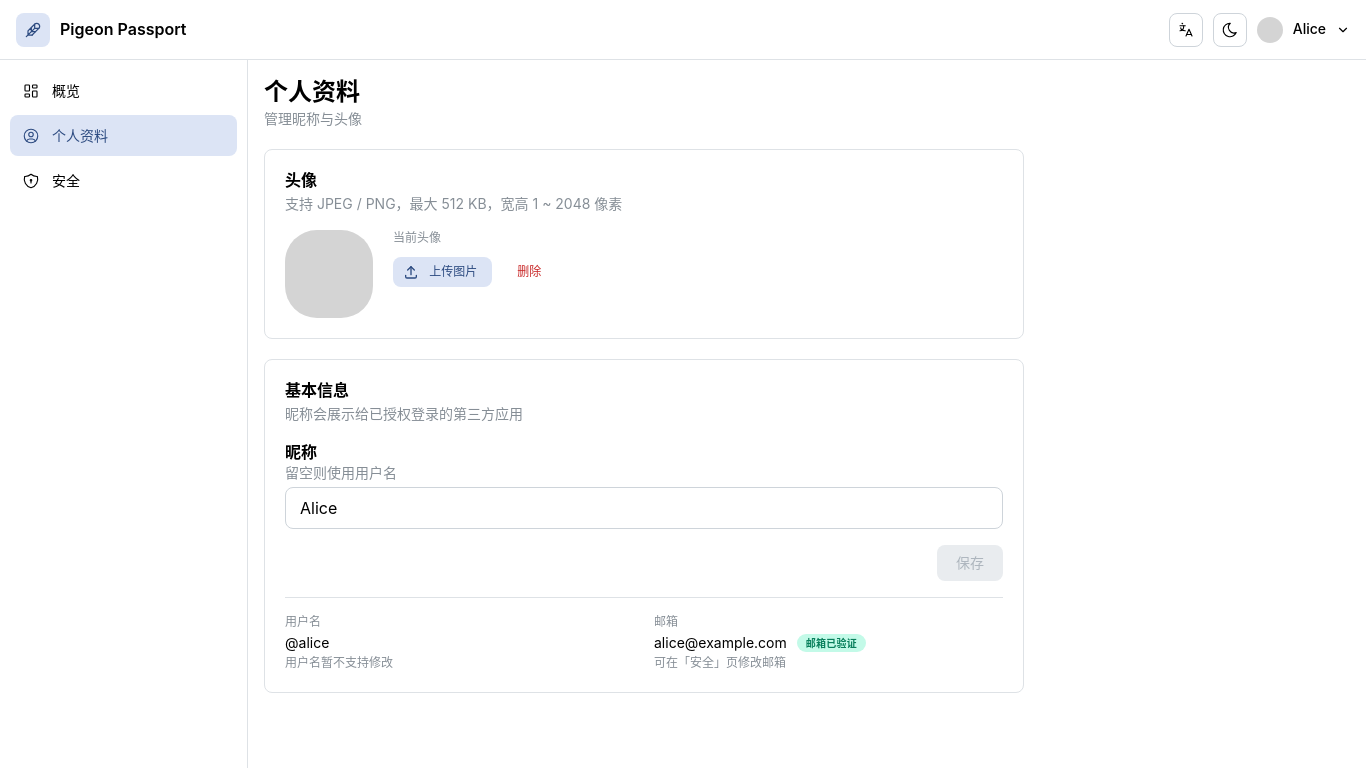
Test: ProfilePage avatar › deletes the current avatar after confirmation
This screenshot has width=1366, height=768.
Check: the field labelled "昵称" is shown, box [285,487,1003,529]
Click the button "删除": (529, 272) [502,257,556,287]
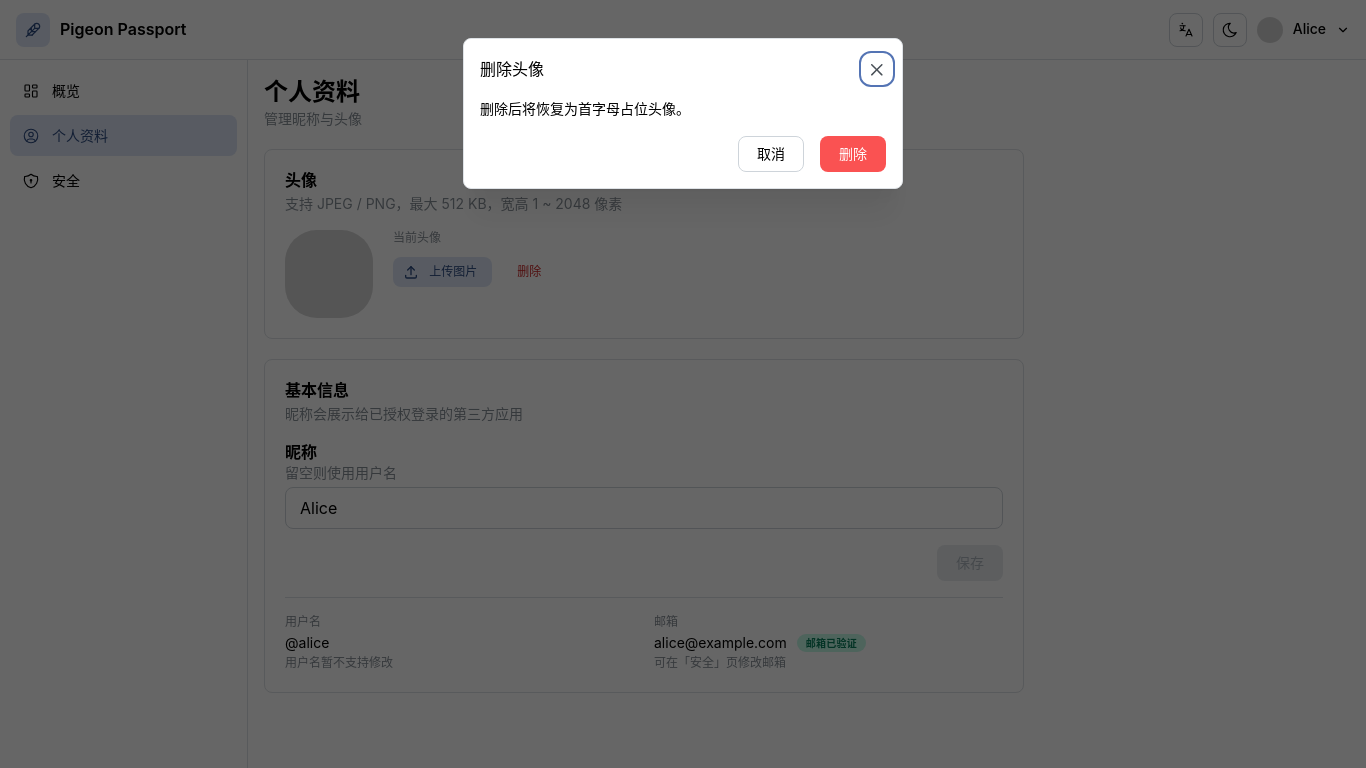
Check: the heading "删除头像" is shown, box [480,61,544,77]
Click the button "删除": (853, 154) [820,136,886,172]
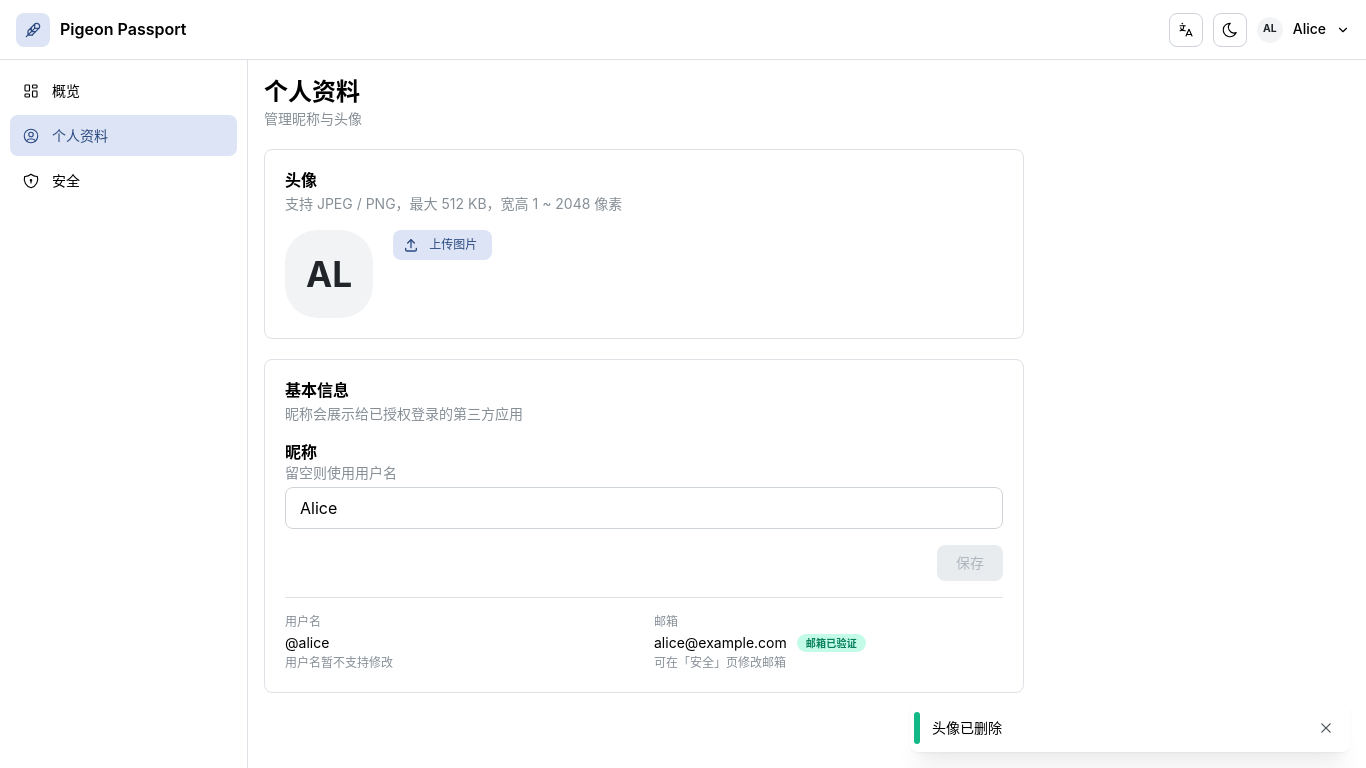
Check: the text "头像已删除" is shown, box [932,719,1002,736]
